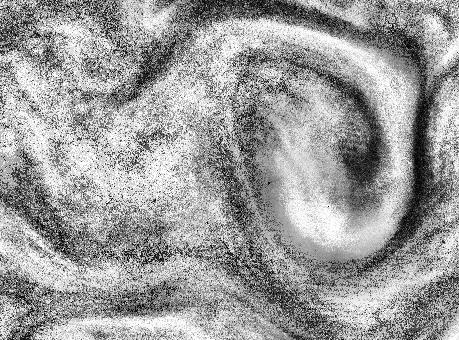AE: (218, 5, 440, 277)
